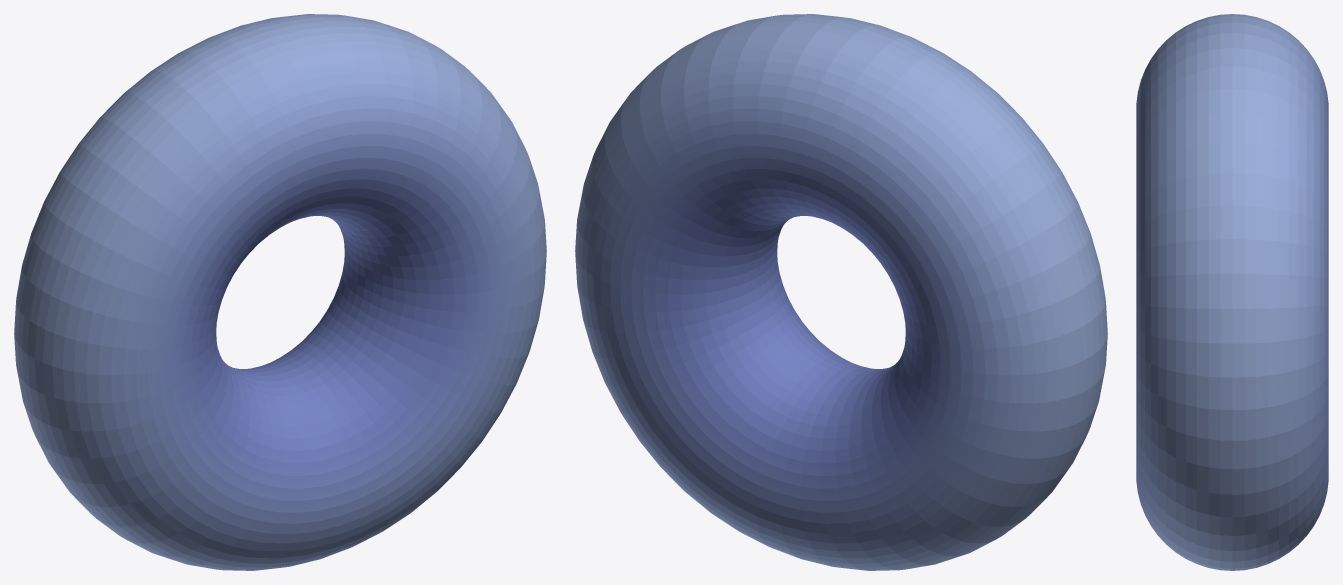
3 views of the same model, side by side, from view 1: azimuth 30°, elevation 25°; view 2: azimuth 150°, elevation 25°; view 3: azimuth 270°, elevation 25° (orthographic). The views are drawn at different scales.
Parts seen in each view (by area): view 1: world; view 2: world; view 3: world.
Boxes of the visible parts, left/top/right/bottom form: world: left=14, top=14, right=546, bottom=570; world: left=575, top=14, right=1107, bottom=570; world: left=1136, top=14, right=1328, bottom=570.
Size of the model in its own units: 17.33 by 17.3 by 5.99.
